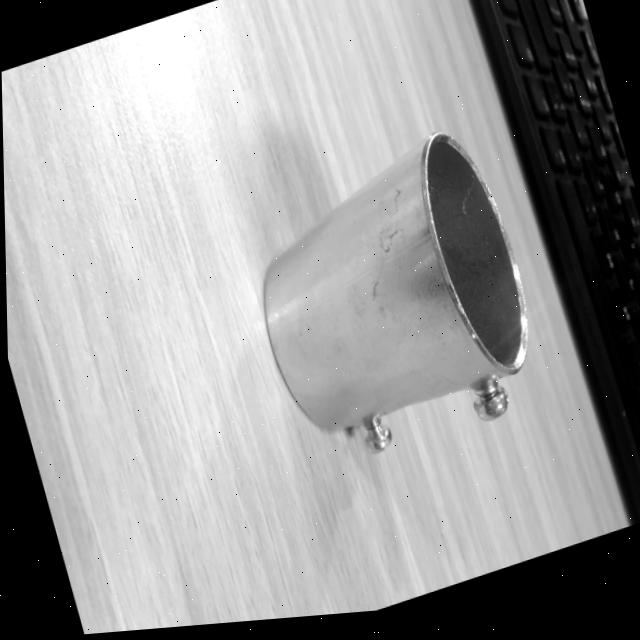Co_Nho: (225, 120, 558, 475)
